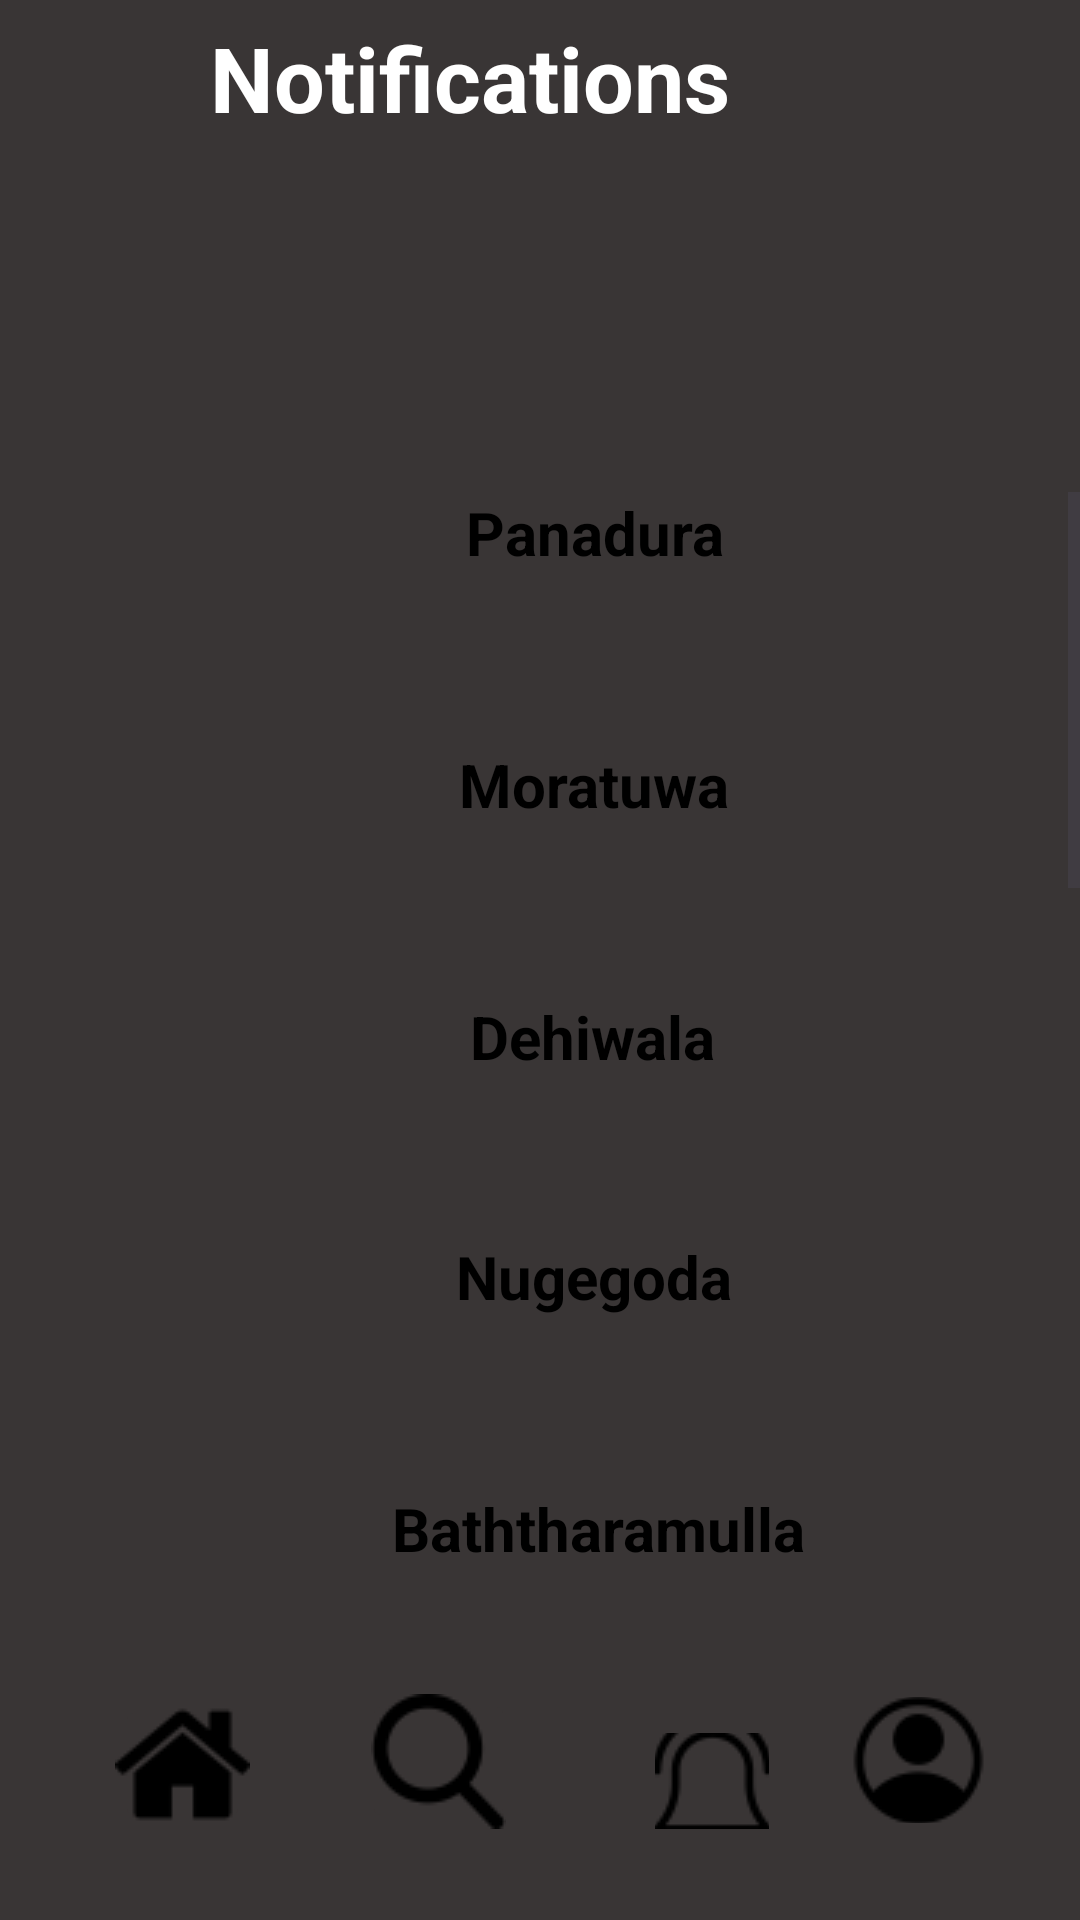

Screen size 1080w x 1920h. Icon name, then its box in pixels as [x1, y1, x2, y2]:
account: [855, 1697, 982, 1823]
home: [115, 1711, 250, 1818]
search: [373, 1694, 504, 1829]
